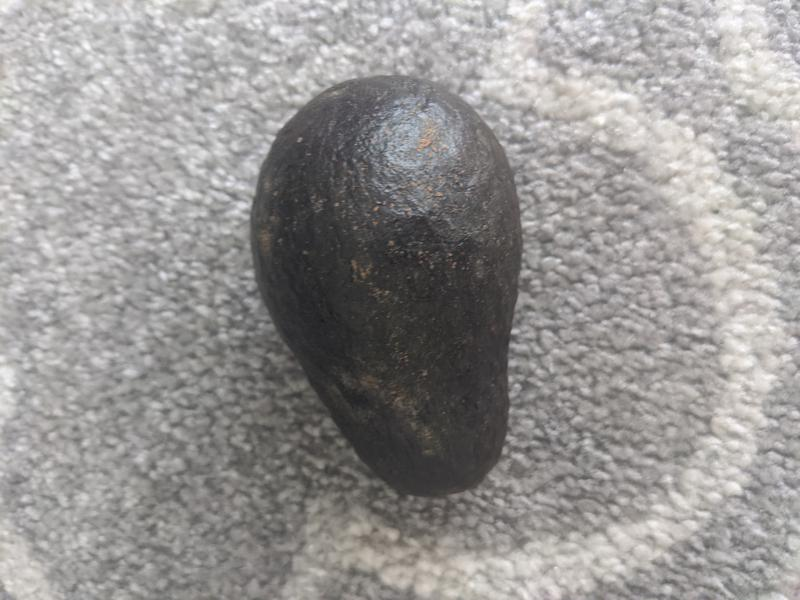avocado: (250, 75, 524, 500)
